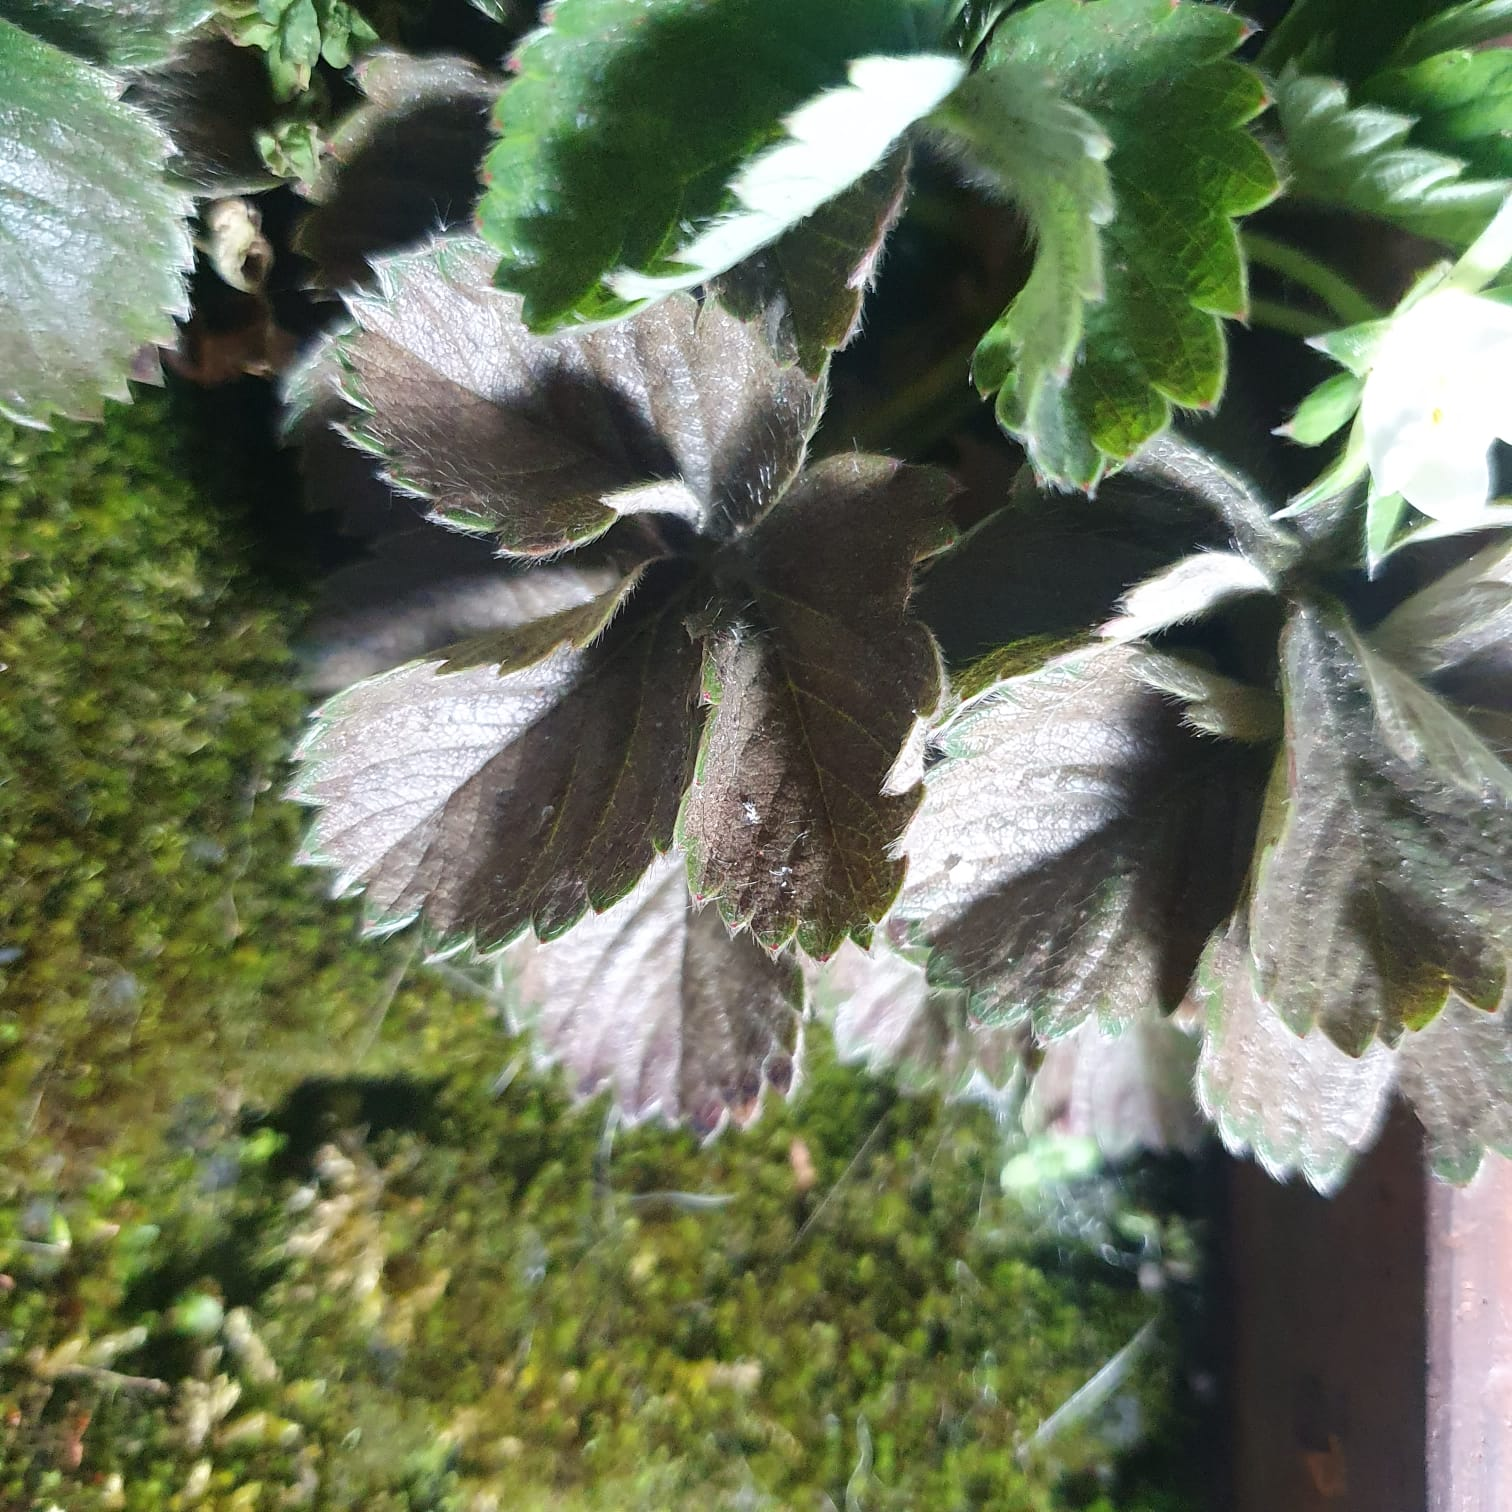tizon_tardio: (339, 241, 1001, 1135)
